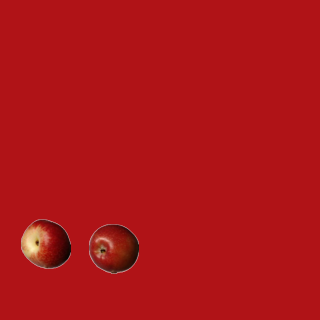Apple Braeburn: (88, 223, 138, 273)
Nectarine: (20, 218, 70, 268)
